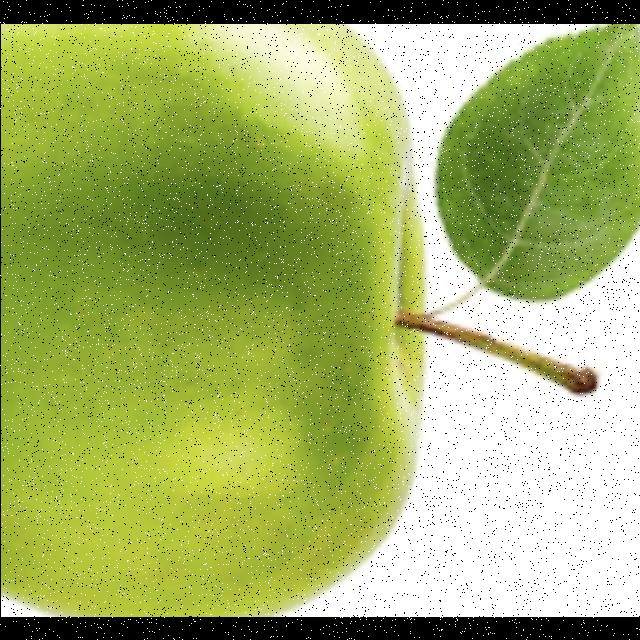Apel Segar: (0, 23, 425, 616)
